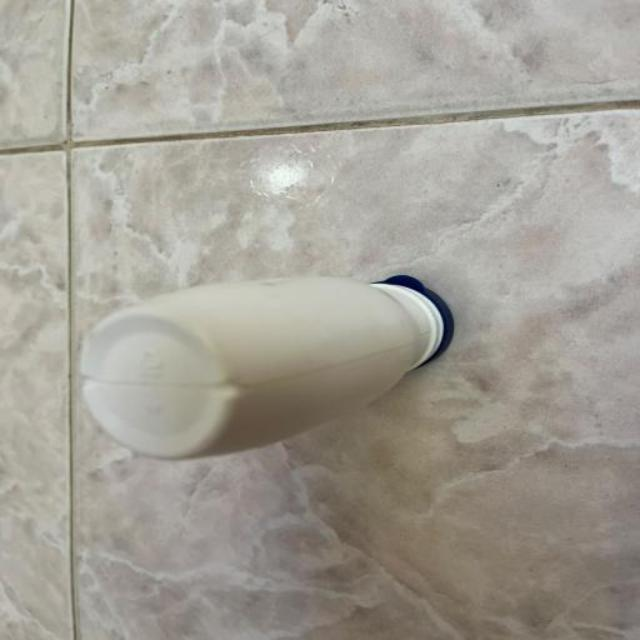HDPE: (58, 251, 516, 469)
